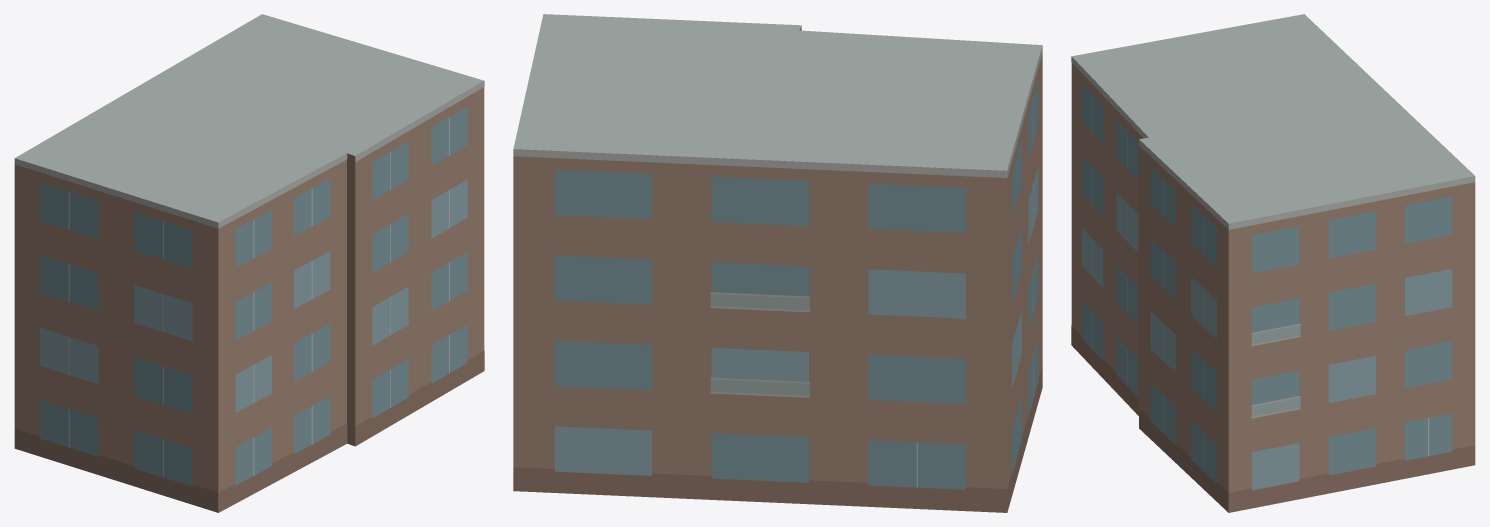
The model's file is survey-upis-32963424.glb.
3 views of the same model, side by side, from view 1: azimuth 30°, elevation 25°; view 2: azimuth 150°, elevation 25°; view 3: azimuth 270°, elevation 25° (orthographic). The views are drawn at different scales.
Parts seen in each view (by area): view 1: survey-upis-32963424.tmp; view 2: survey-upis-32963424.tmp; view 3: survey-upis-32963424.tmp.
Part boxes in pixels (<box>): survey-upis-32963424.tmp: <box>14,14,484,512</box>; survey-upis-32963424.tmp: <box>513,14,1042,512</box>; survey-upis-32963424.tmp: <box>1071,14,1475,512</box>.
Size of the model in its own units: 18.06 by 11.6 by 14.7.
